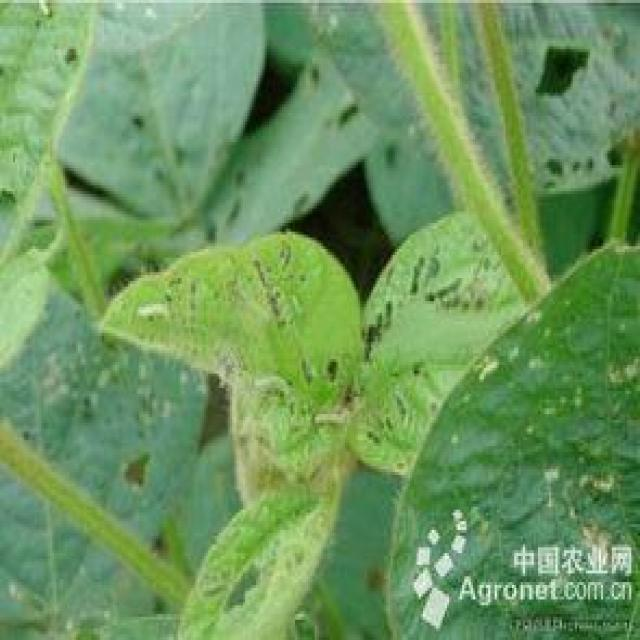BeetArmyWorm-Larva-: (249, 366, 301, 406), (127, 297, 178, 328), (310, 402, 354, 436)
